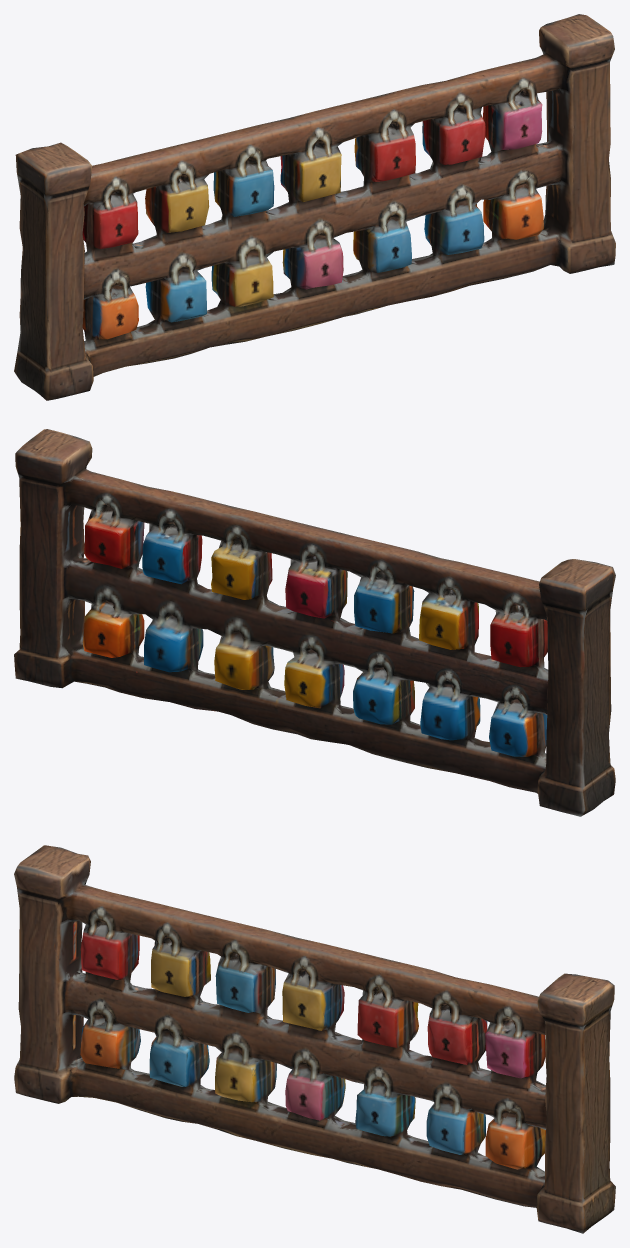
File: 남산_자물쇠벽.glb
The picture shows the model from 3 angles, top to bottom: view 1: azimuth 30°, elevation 25°; view 2: azimuth 150°, elevation 25°; view 3: azimuth 330°, elevation 25°; orthographic projection.
Parts seen in each view (by area): view 1: texture_mapping; view 2: texture_mapping; view 3: texture_mapping.
Boxes of the visible parts, x1,y1,x2,y2 form: texture_mapping: [14, 14, 615, 400]; texture_mapping: [14, 429, 615, 816]; texture_mapping: [14, 845, 615, 1233].
Bounding box in the file's own units: 1 × 0.3874 × 0.1022.
1 material, 1 textured.
